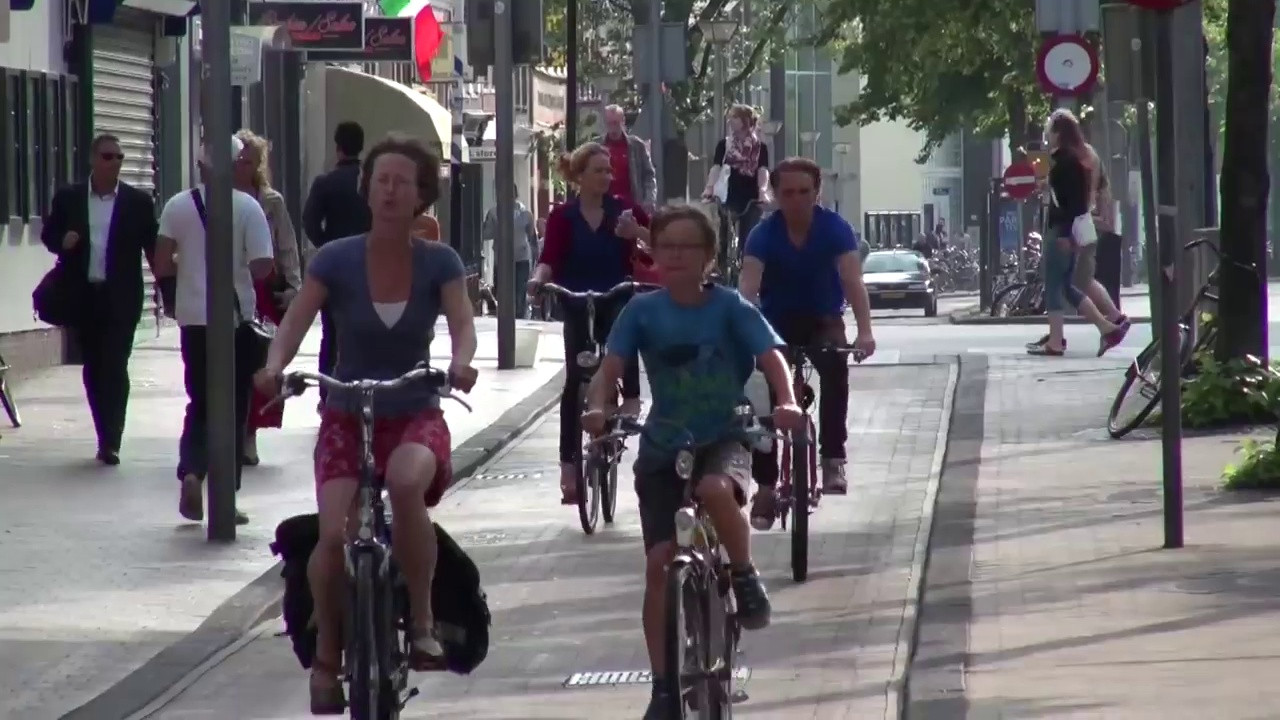cyclist_front: (267, 142, 471, 714), (584, 208, 780, 711), (749, 158, 878, 584), (541, 135, 647, 535)
